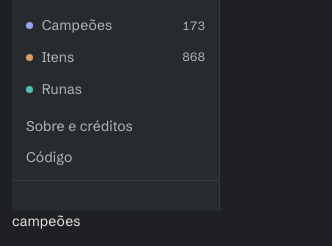
Test: as categorias da barra › fora da home, são links para ela, e o clique já escolhe a categoria
This screenshot has width=332, height=246.
Click the link "Itens".
click(50, 57)  # box [26,48,74,66]
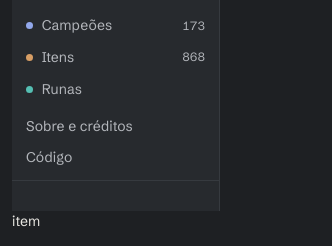
Expected: the text named "Aberta" reads "item", [12,212,40,230]
